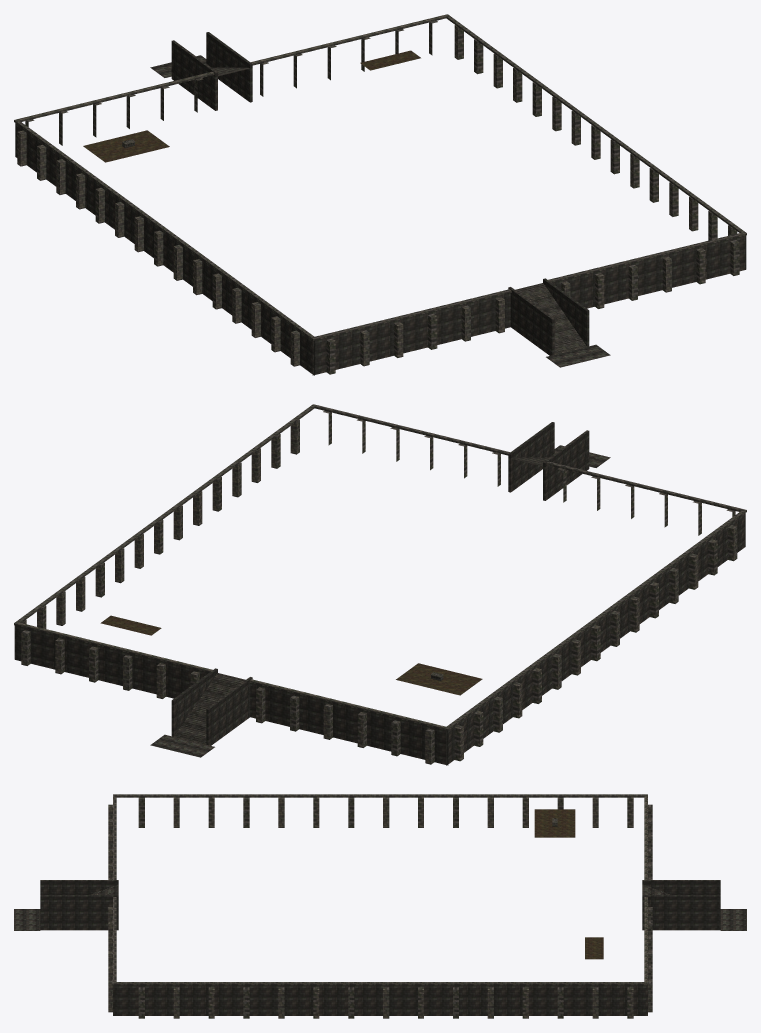
File: manor_base_v2.glb
3 views of the same model, one above another, from view 1: azimuth 30°, elevation 25°; view 2: azimuth 150°, elevation 25°; view 3: azimuth 270°, elevation 25° (orthographic). The views are drawn at different scales.
Visible parts, largest first — view 1: manor_base; view 2: manor_base; view 3: manor_base.
Part boxes in pixels (x1,y1,x2,y2): manor_base: (14,14,746,375); manor_base: (14,404,746,765); manor_base: (14,794,746,1018).
Size of the model in its own units: 105 by 8.92 by 168.
Materials: 6 (6 with a texture image).
